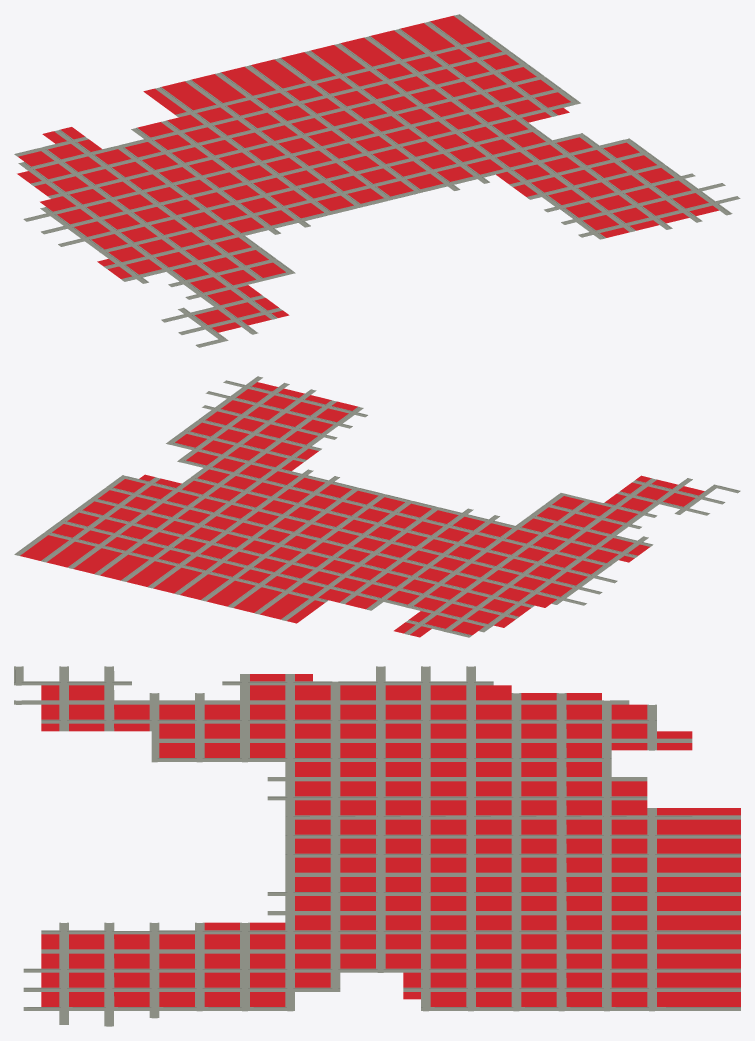
The model's file is Map.glb.
The picture shows the model from 3 angles, top to bottom: view 1: azimuth 30°, elevation 25°; view 2: azimuth 150°, elevation 25°; view 3: azimuth 270°, elevation 25°; orthographic projection. The views are drawn at different scales.
Visible parts, largest first — view 1: pLANE; view 2: pLANE; view 3: pLANE.
Boxes of the visible parts, box(x1,y1,x2,y2) form: pLANE: box(14, 14, 740, 347); pLANE: box(14, 376, 740, 637); pLANE: box(14, 666, 740, 1026).
Bounding box in the file's own units: 3821 × 1 × 3260.
